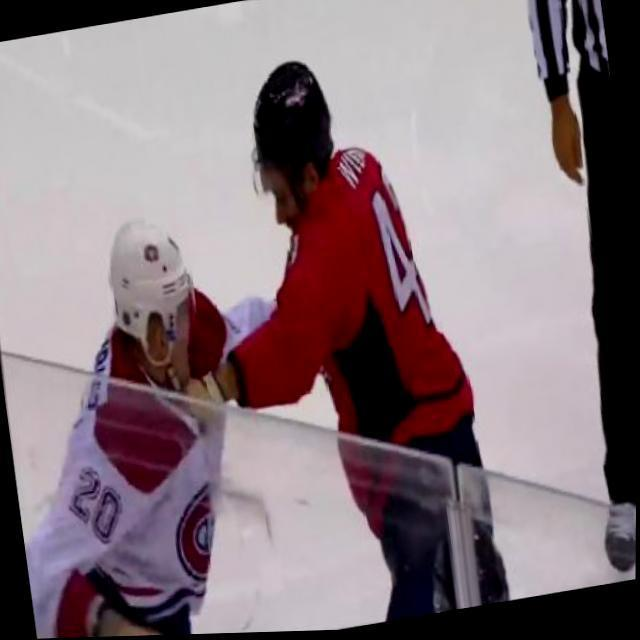fight: (0, 27, 521, 640)
